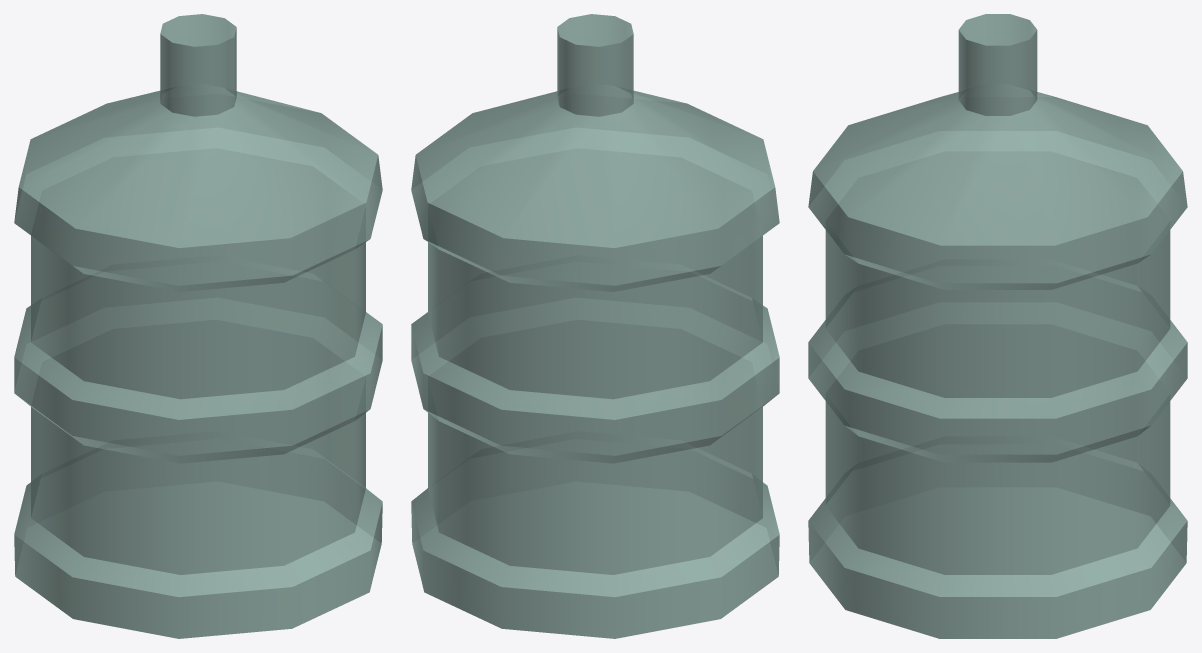
File: mesh_bottle_02.fbx
3 renders of one model, left to right at view 1: azimuth 30°, elevation 25°; view 2: azimuth 150°, elevation 25°; view 3: azimuth 270°, elevation 25°, orthographic.
Parts seen in each view (by area): view 1: mesh_bottle_02; view 2: mesh_bottle_02; view 3: mesh_bottle_02.
Part boxes in pixels (<box>): mesh_bottle_02: <box>14,14,382,638</box>; mesh_bottle_02: <box>411,14,779,638</box>; mesh_bottle_02: <box>808,14,1187,638</box>.
Bounding box in the file's own units: 0.362 × 0.5905 × 0.3807.
